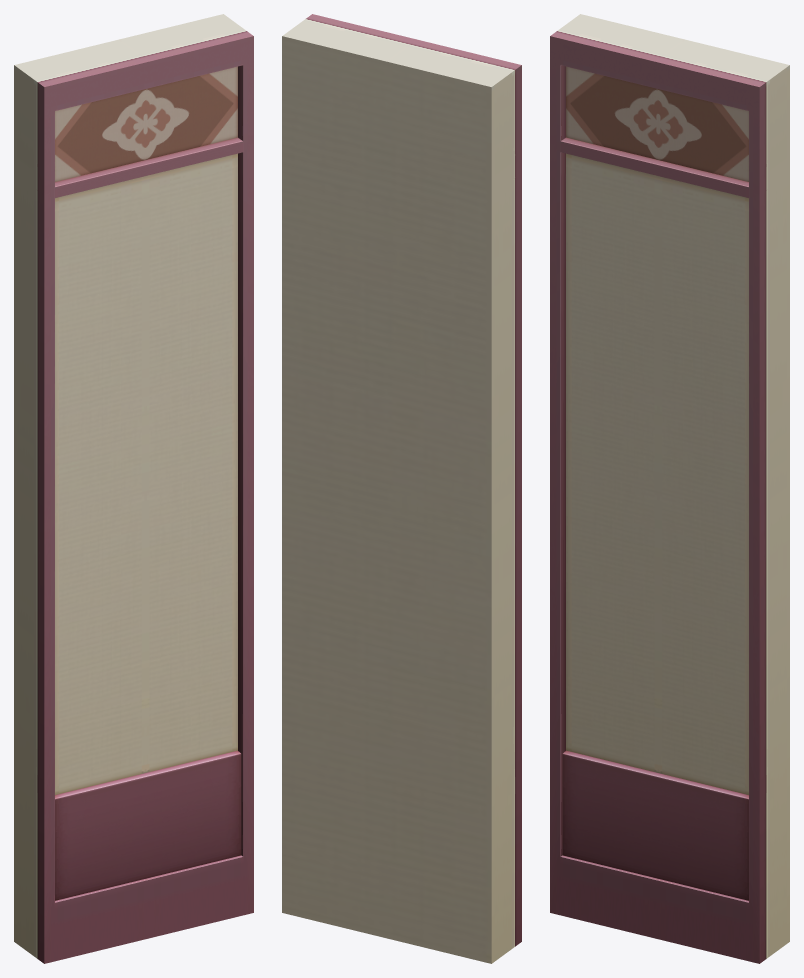
Rendered from my_hyakkiyako_01_wall_left.glb.
The picture shows the model from 3 angles, left to right: view 1: azimuth 30°, elevation 25°; view 2: azimuth 150°, elevation 25°; view 3: azimuth 330°, elevation 25°; orthographic projection.
Parts seen in each view (by area): view 1: my_hyakkiyako_01_wall_left; view 2: my_hyakkiyako_01_wall_left; view 3: my_hyakkiyako_01_wall_left.
Boxes of the visible parts, x1,y1,x2,y2 form: my_hyakkiyako_01_wall_left: (14,14,253,963); my_hyakkiyako_01_wall_left: (282,14,521,963); my_hyakkiyako_01_wall_left: (550,14,789,963).
Bounding box in the file's own units: 0.012 × 0.048 × 0.003.
1 material, 1 textured.
